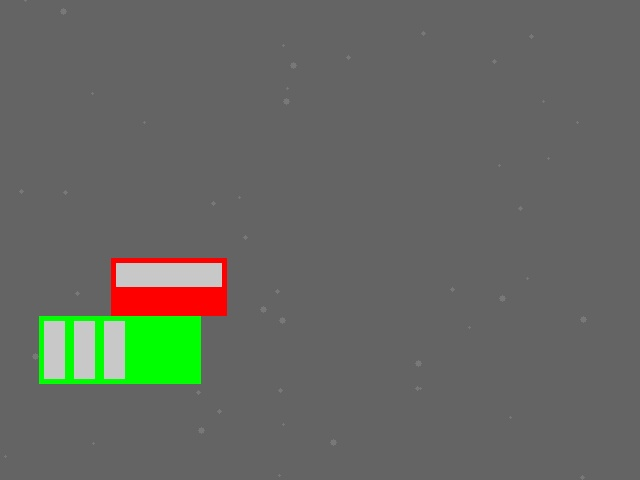bus: (39, 316, 200, 383)
car: (111, 258, 226, 315)
